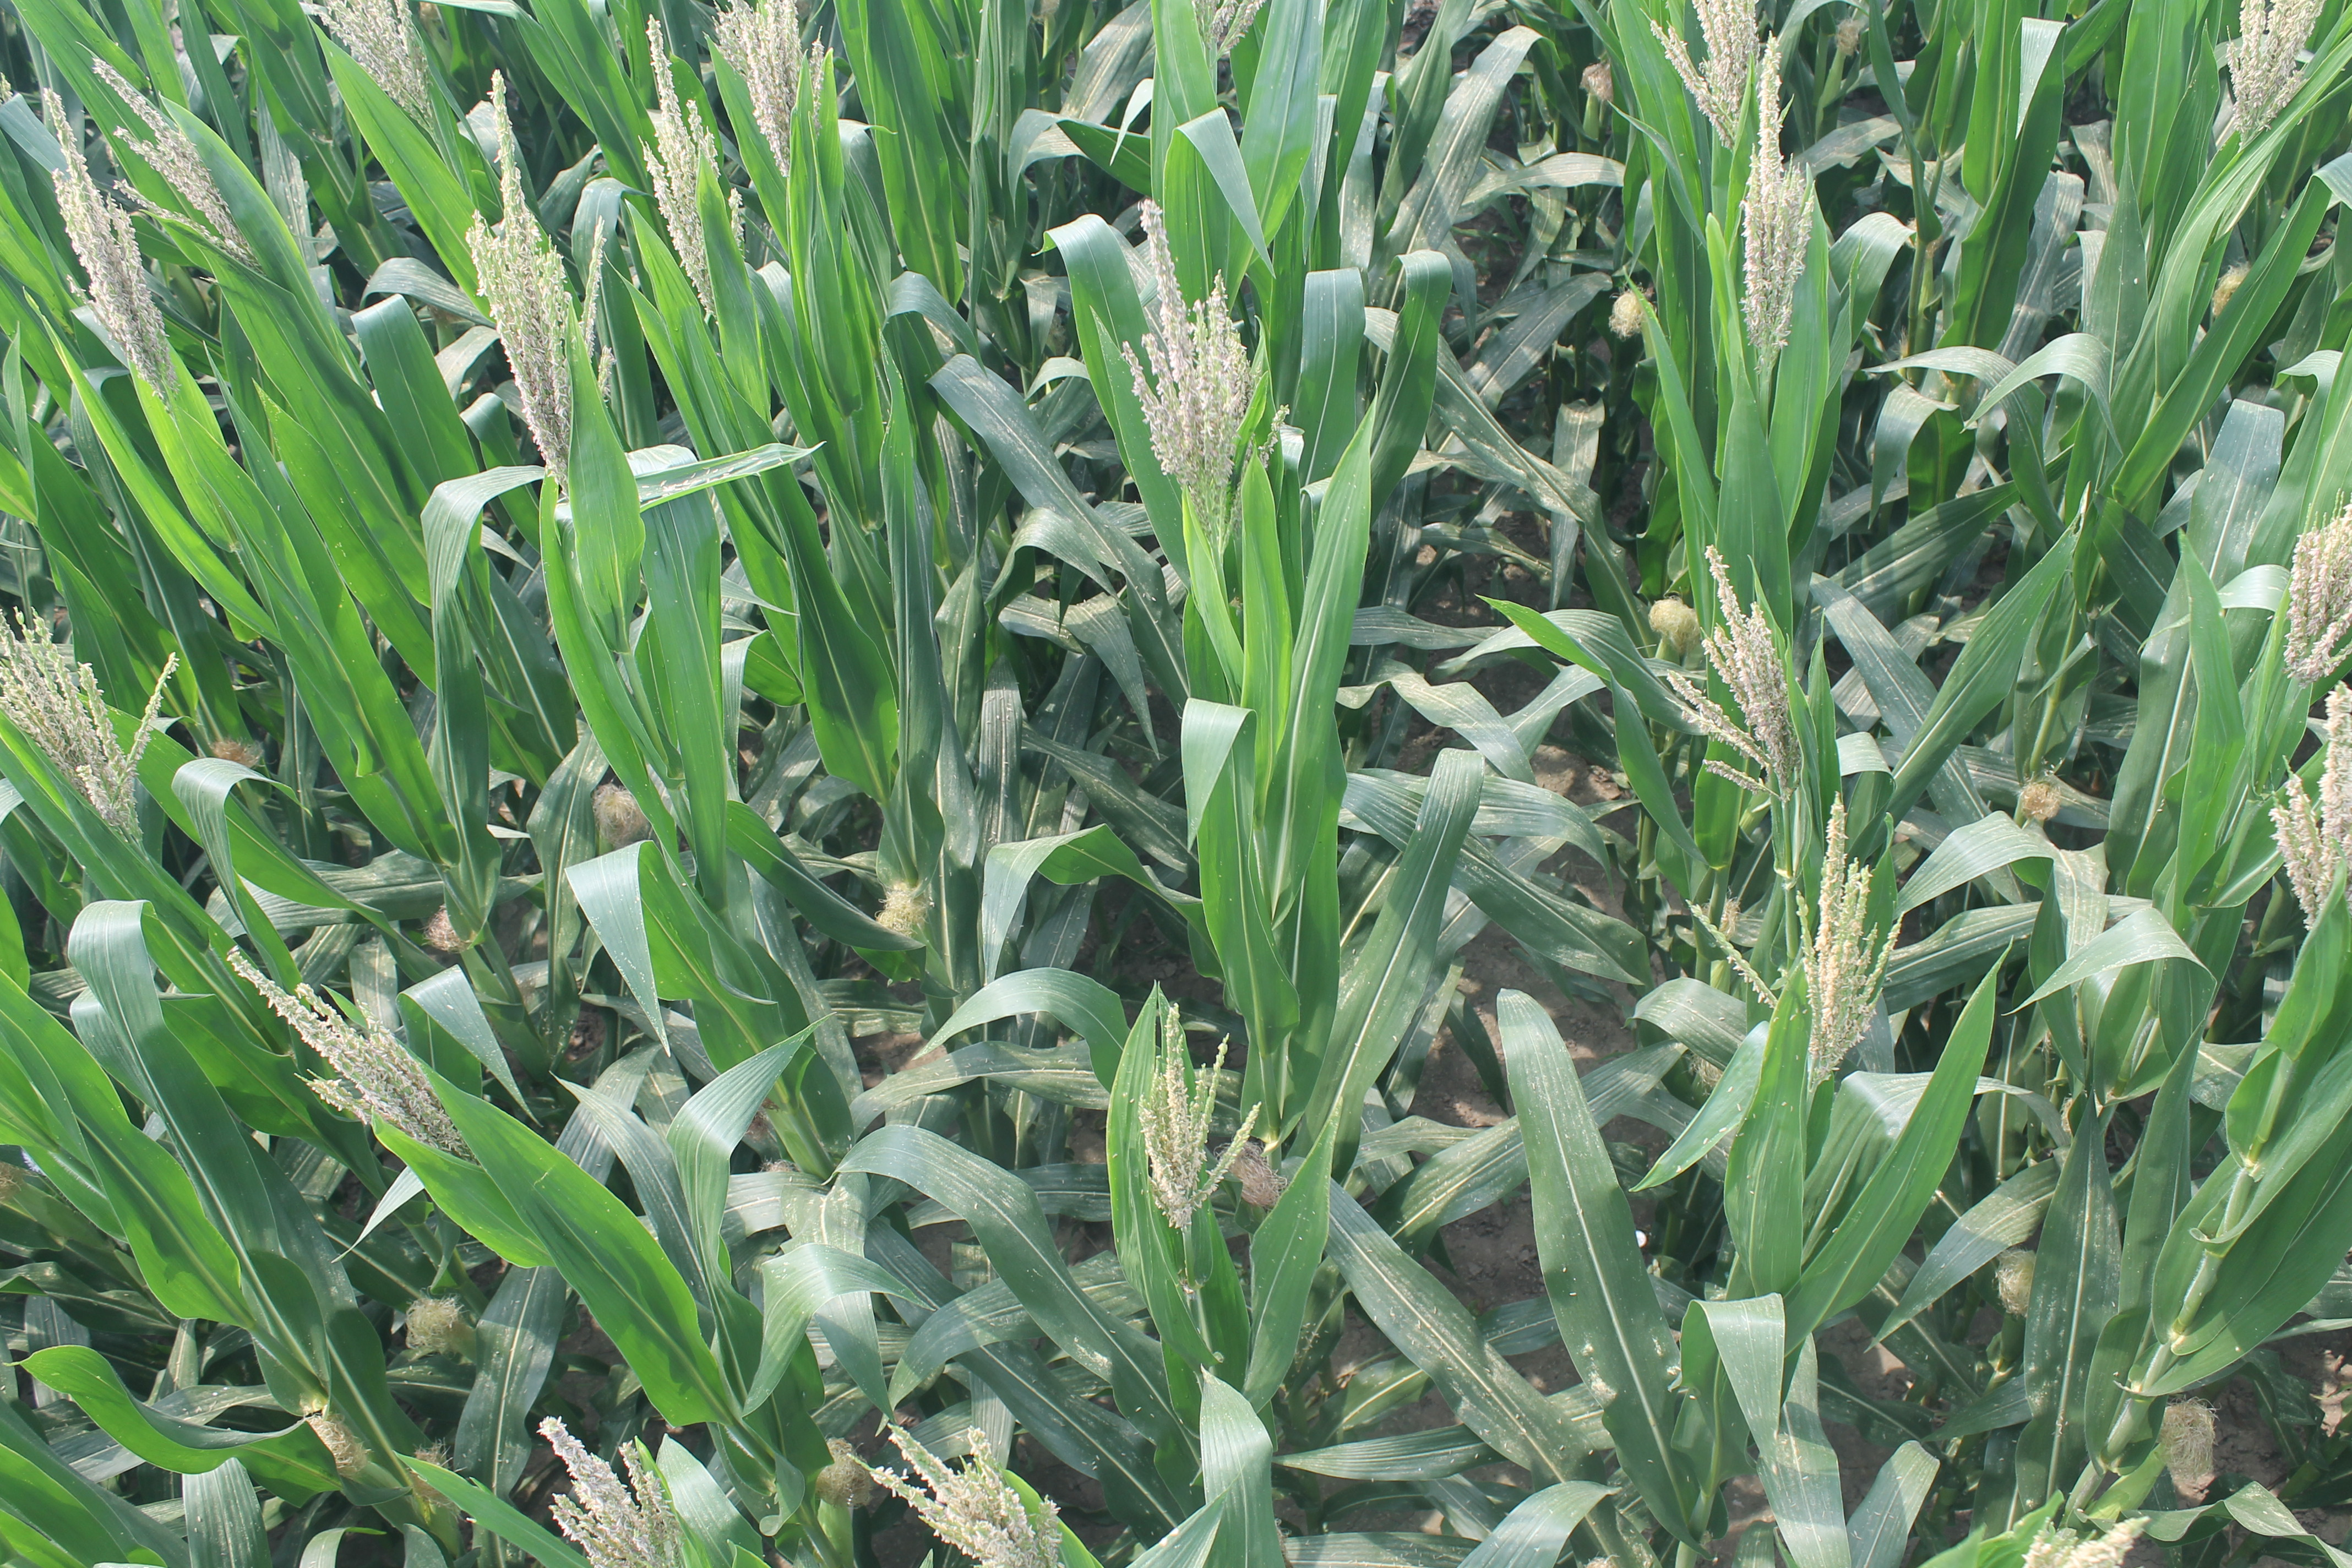Maize: (226, 927, 472, 1181), (1692, 803, 1914, 1074), (469, 93, 604, 509), (1116, 199, 1267, 502), (0, 605, 199, 831), (1092, 994, 1270, 1228), (1645, 558, 1816, 780), (19, 84, 135, 399), (870, 1416, 1092, 1568), (147, 33, 306, 236), (619, 17, 723, 280), (2186, 2, 2352, 152), (541, 1400, 688, 1568), (2261, 689, 2352, 931), (1736, 140, 1832, 346), (742, 0, 863, 161), (306, 0, 453, 128), (2280, 490, 2352, 677), (1661, 0, 1757, 136)
